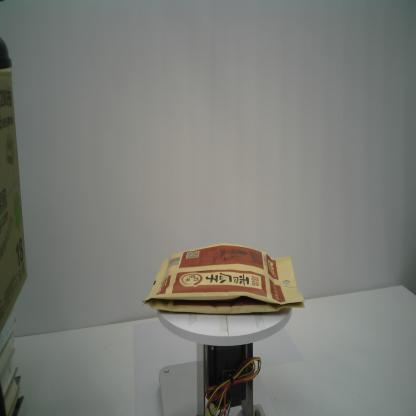Dried Food: (141, 242, 306, 317)
